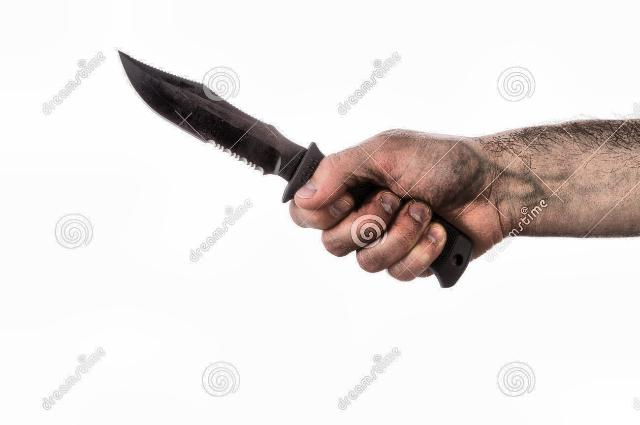knife: (108, 43, 436, 265)
